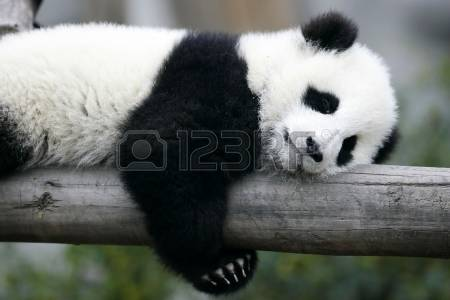panda: (1, 8, 418, 293)
